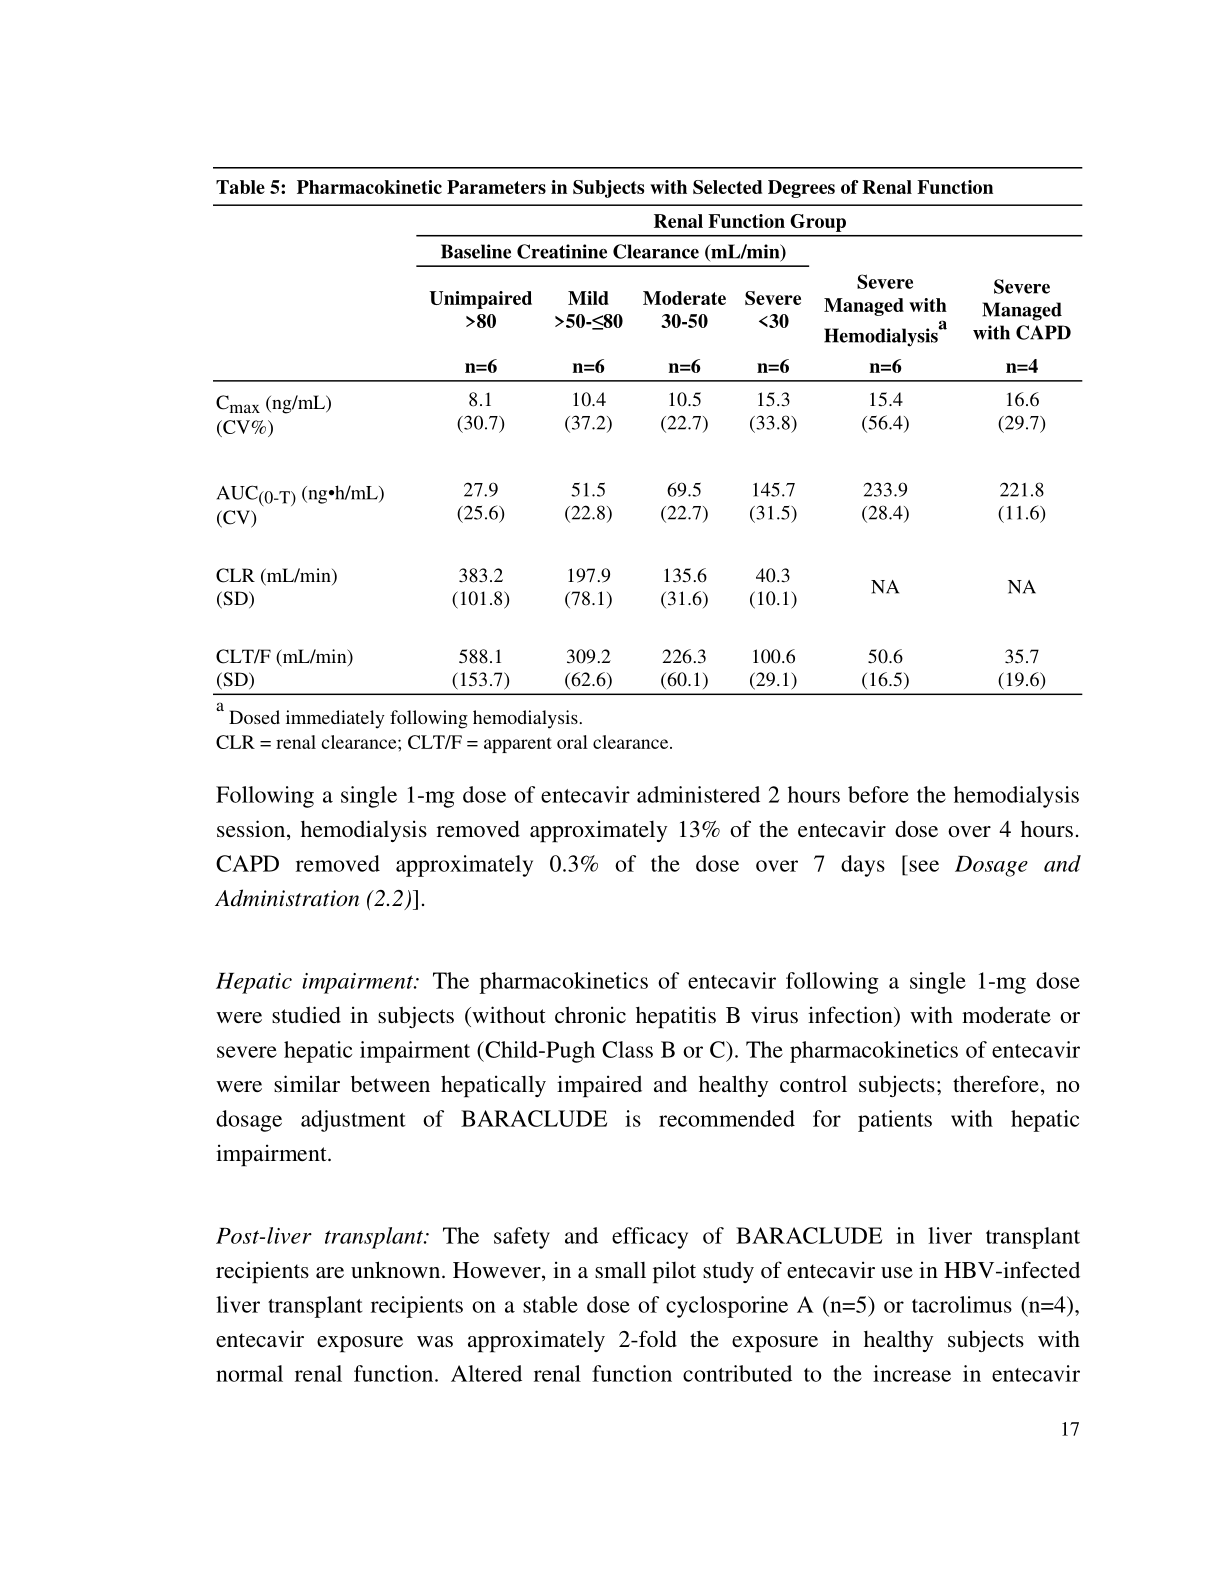partial_lined_merged_cells: (212, 166, 1084, 696)
